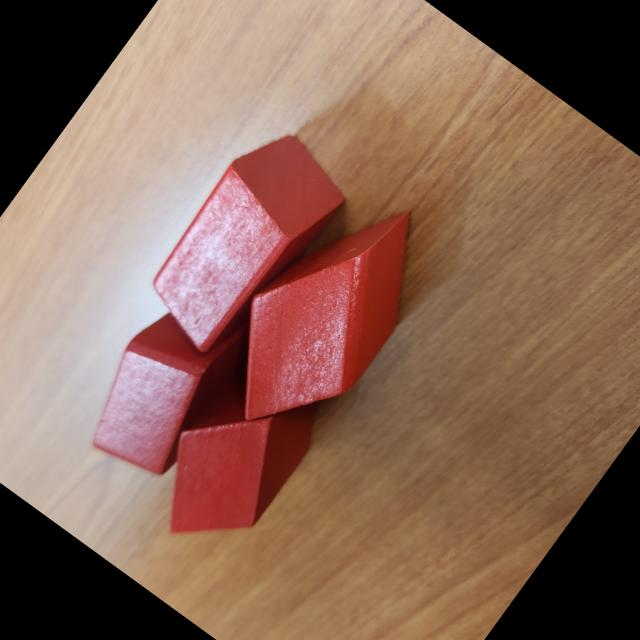red: (191, 166, 456, 459), (128, 115, 359, 371), (64, 275, 276, 502), (128, 346, 338, 573)
